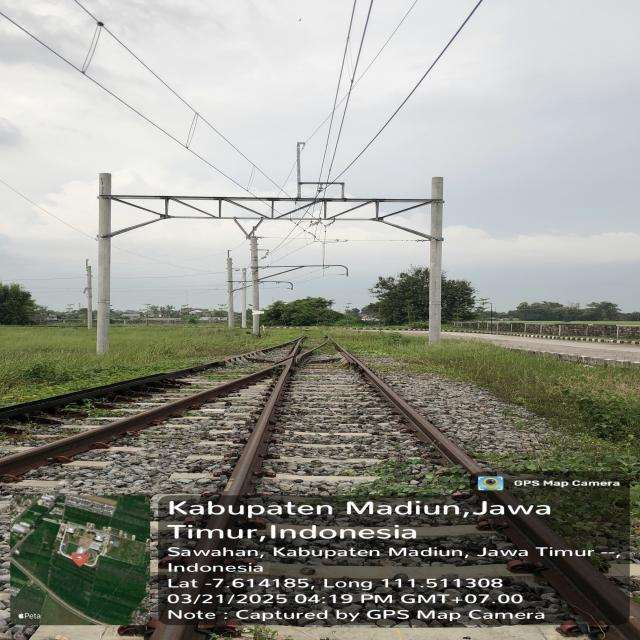rail-detection: (0, 364, 280, 476), (0, 342, 290, 418), (336, 344, 480, 475), (223, 355, 292, 495)
